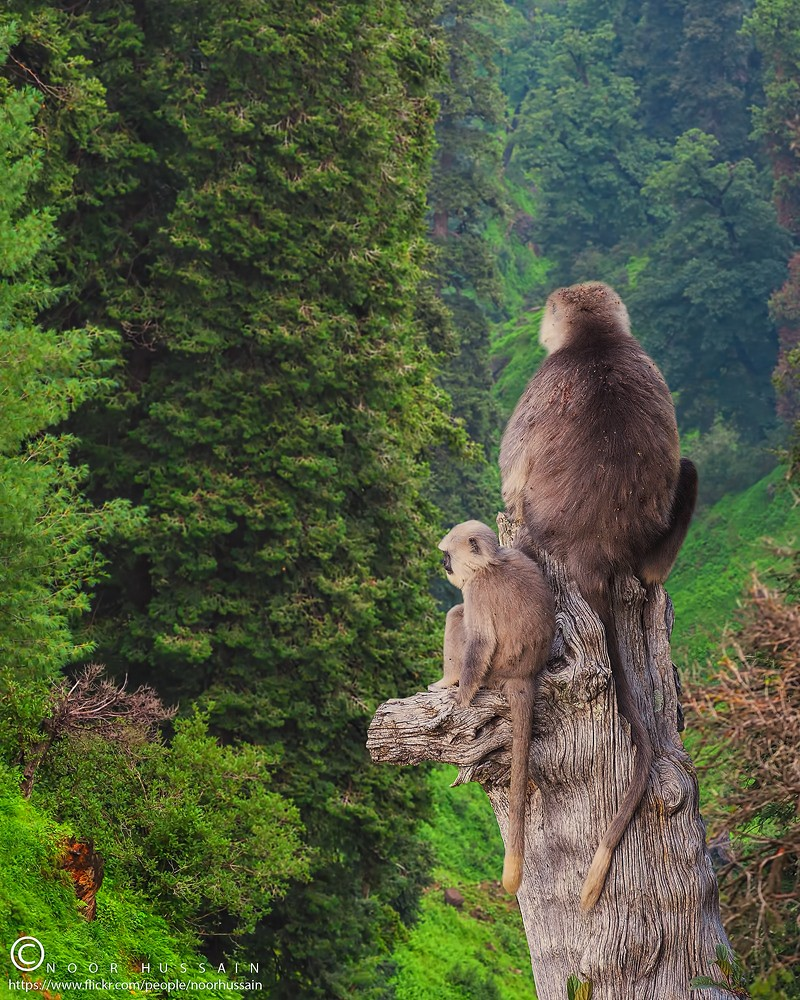monkey: (488, 263, 695, 901), (422, 510, 563, 941)
